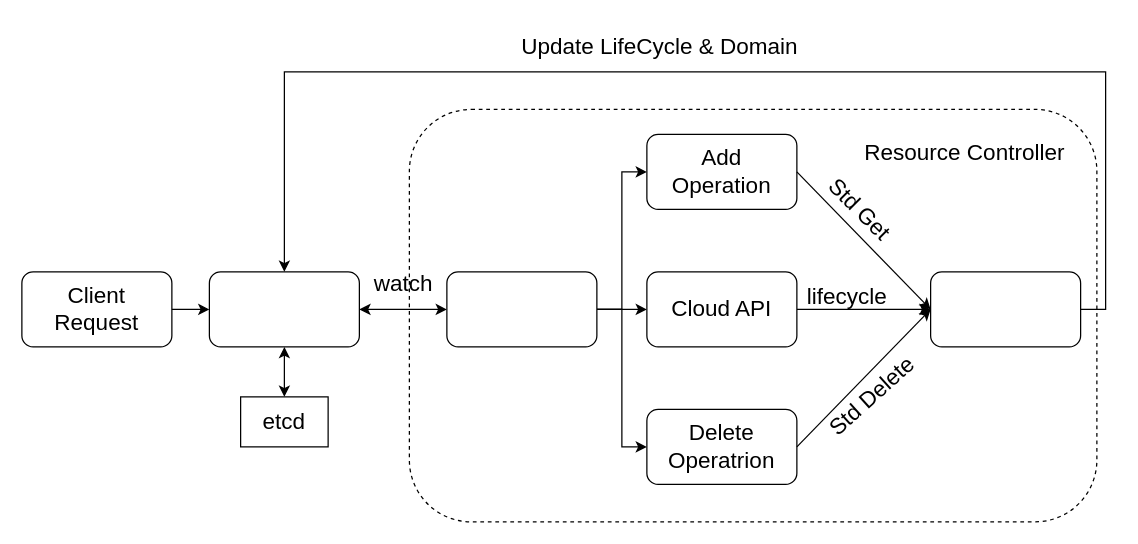
Some shapes in this 1138 by 544 pixel diagram are drawn without their labels. The shapes that lost their labels are listed below. From the top down, each one's centre as x and y in pixels, then its label:
point (283, 309): Kubernetes API Server
point (521, 309): Resource Listerner
point (1005, 309): Std API Executor
